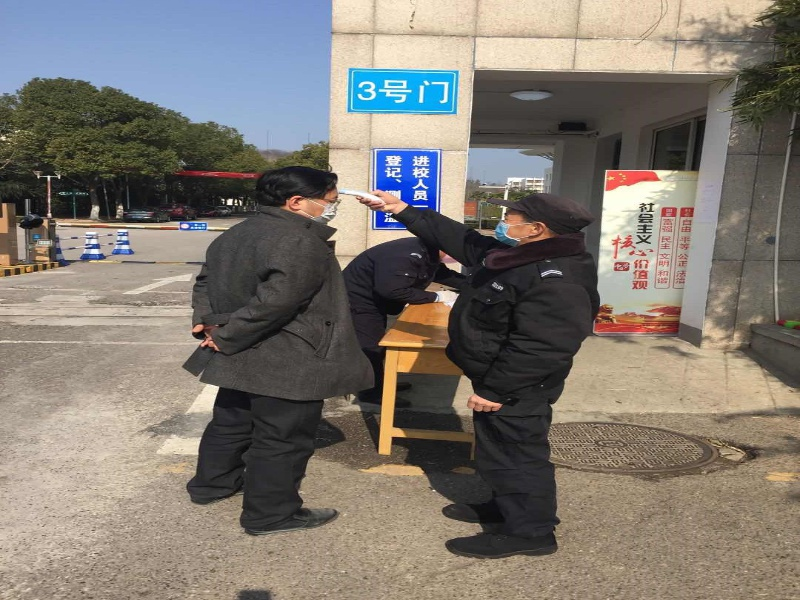ManaoArotava: (480, 187, 556, 266), (300, 155, 354, 256)
